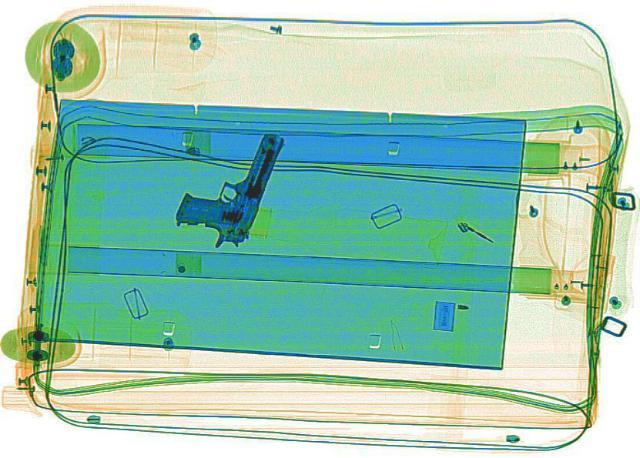Gun: (162, 121, 290, 251)
